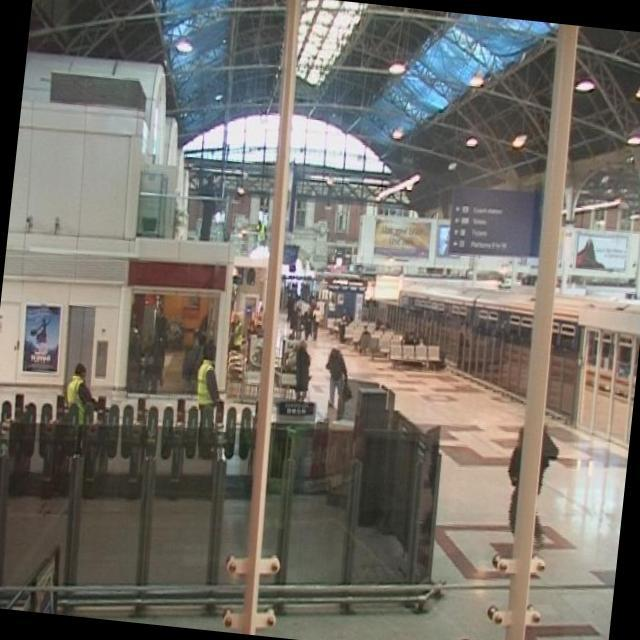person: (316, 342, 356, 422), (187, 336, 230, 406), (285, 336, 317, 403), (59, 360, 101, 409)
